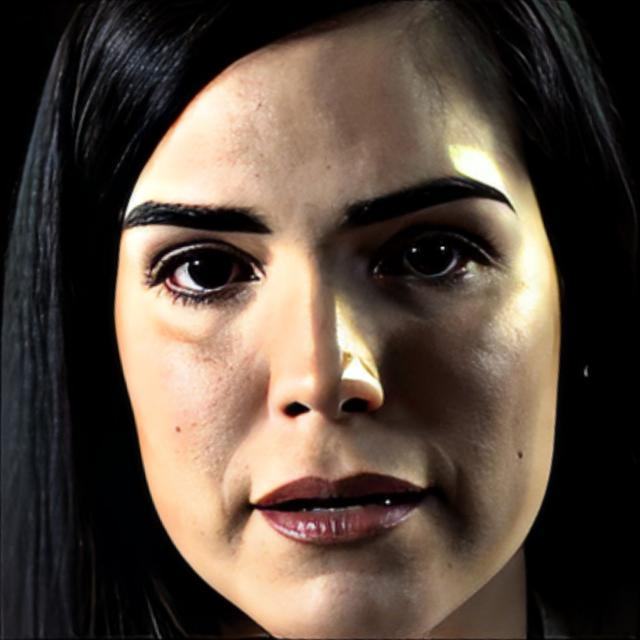sad: (111, 22, 561, 640)
